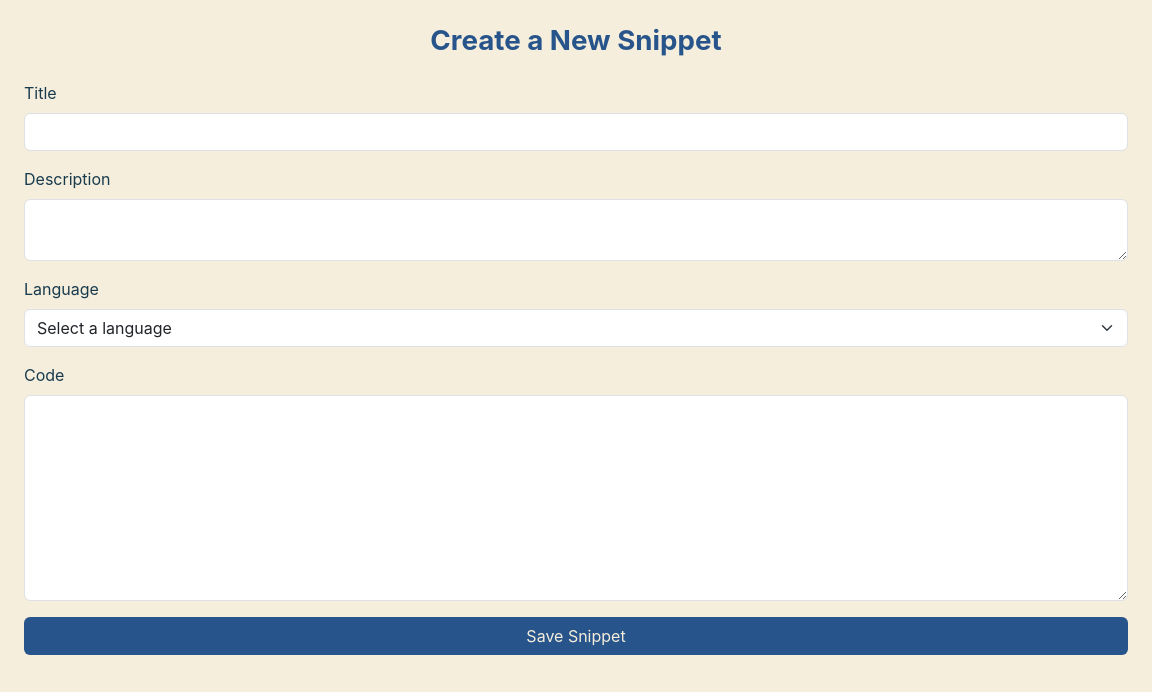
it: CreateSnippet component › submits the form and shows success message
Type "Test Title" into the field labelled "Title".
click(576, 132); type("Test Title")  # box top-left (24, 113), bottom-right (1128, 151)
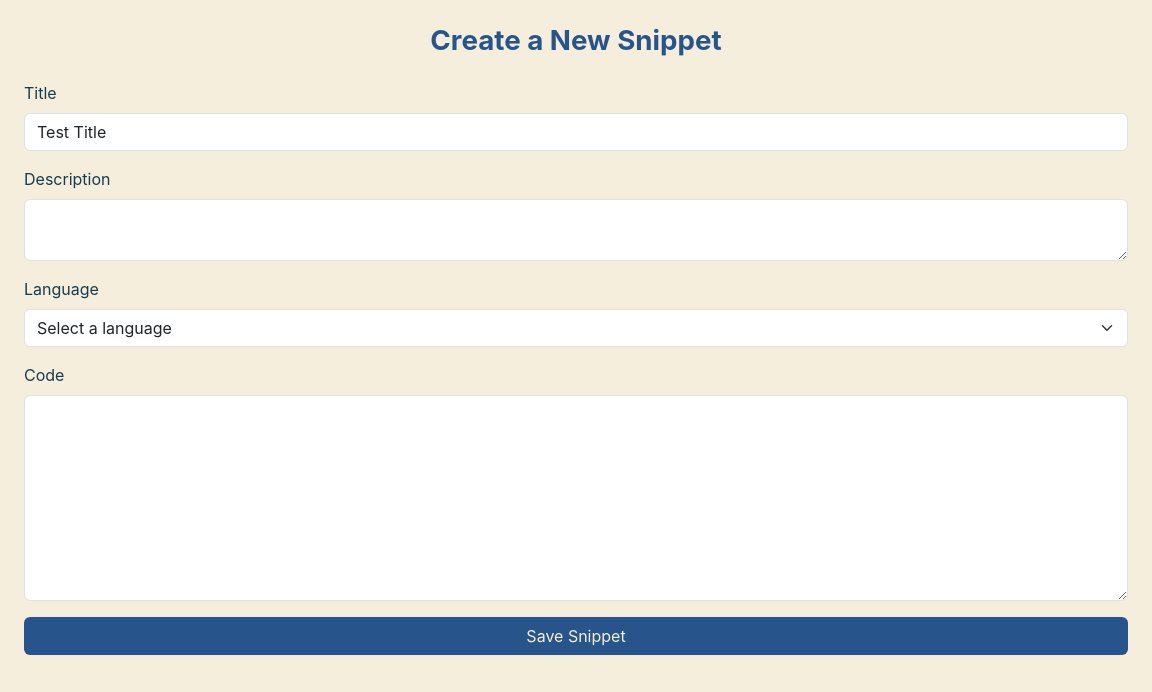
Type "Test Description" into the text box labelled "Description".
click(576, 230); type("Test Description")  # box top-left (24, 199), bottom-right (1128, 261)
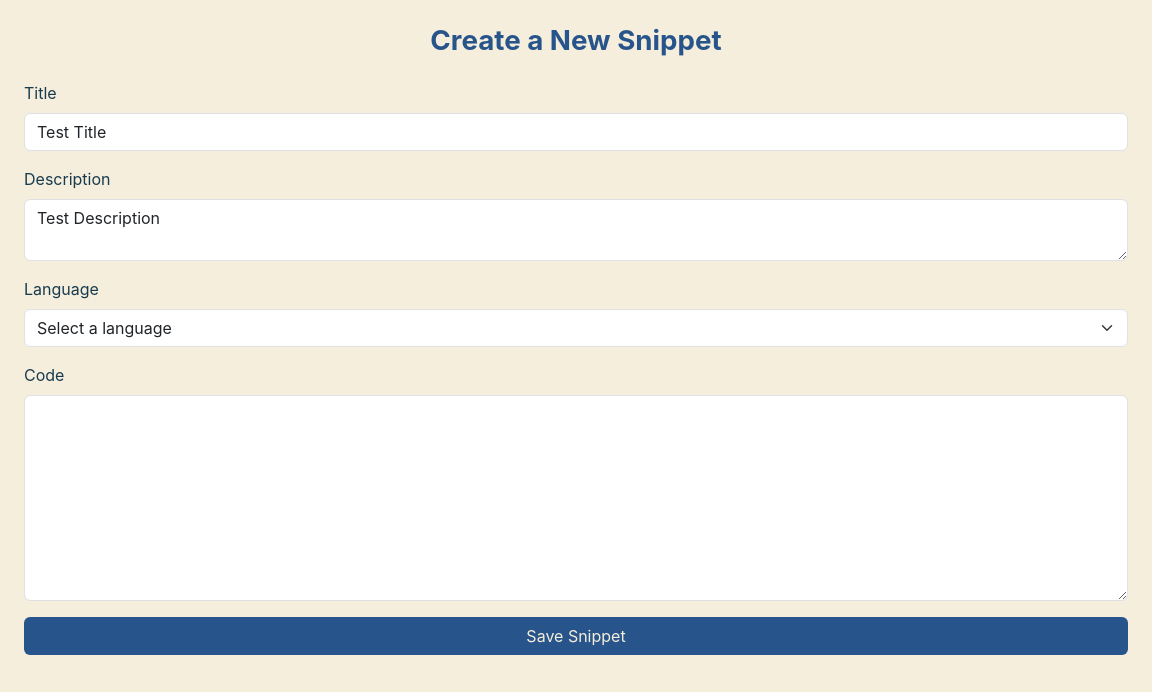
Select "JavaScript" in the dropdown labelled "Language" at [576, 328], box top-left (24, 309), bottom-right (1128, 347)
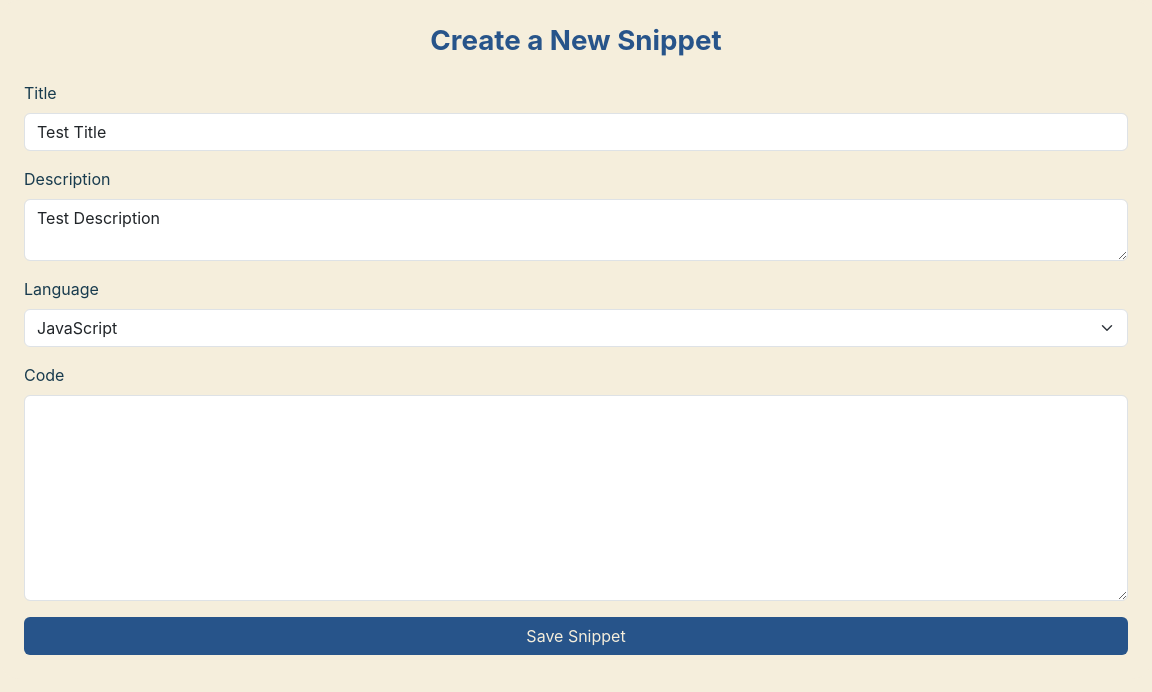
Type "console.log(\"hello\");" into the text box labelled "Code".
click(576, 498); type("console.log(\"hello\");")  # box top-left (24, 395), bottom-right (1128, 601)
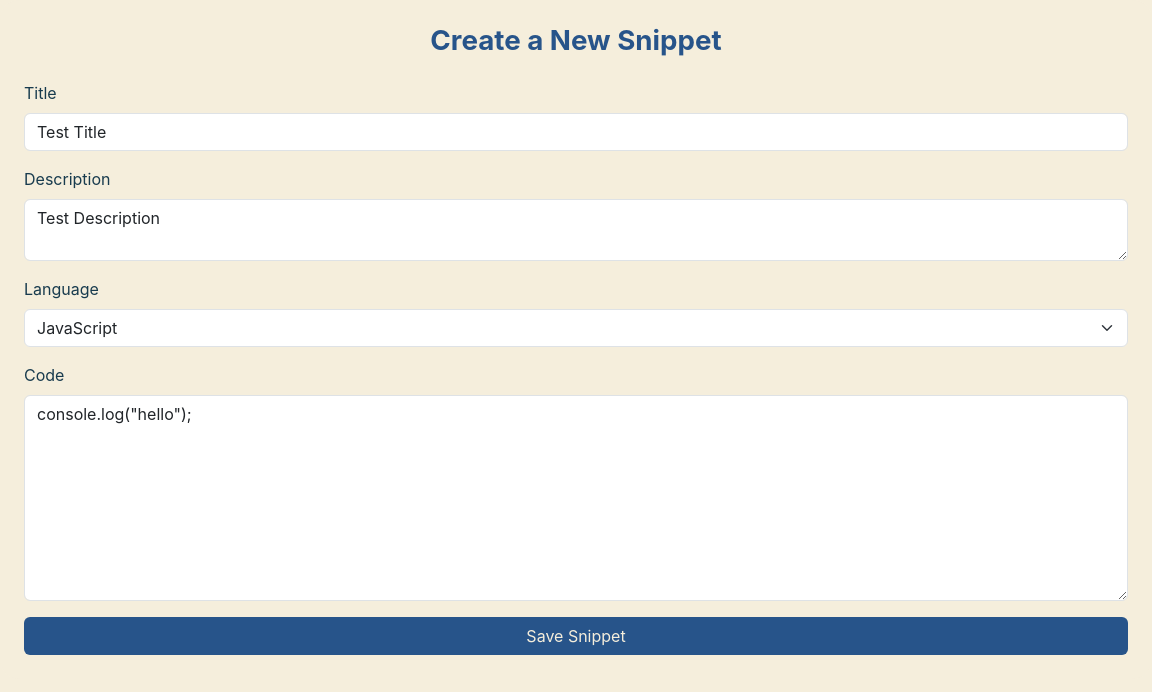
Click the button "Save Snippet".
click(576, 636)  # box top-left (24, 617), bottom-right (1128, 655)
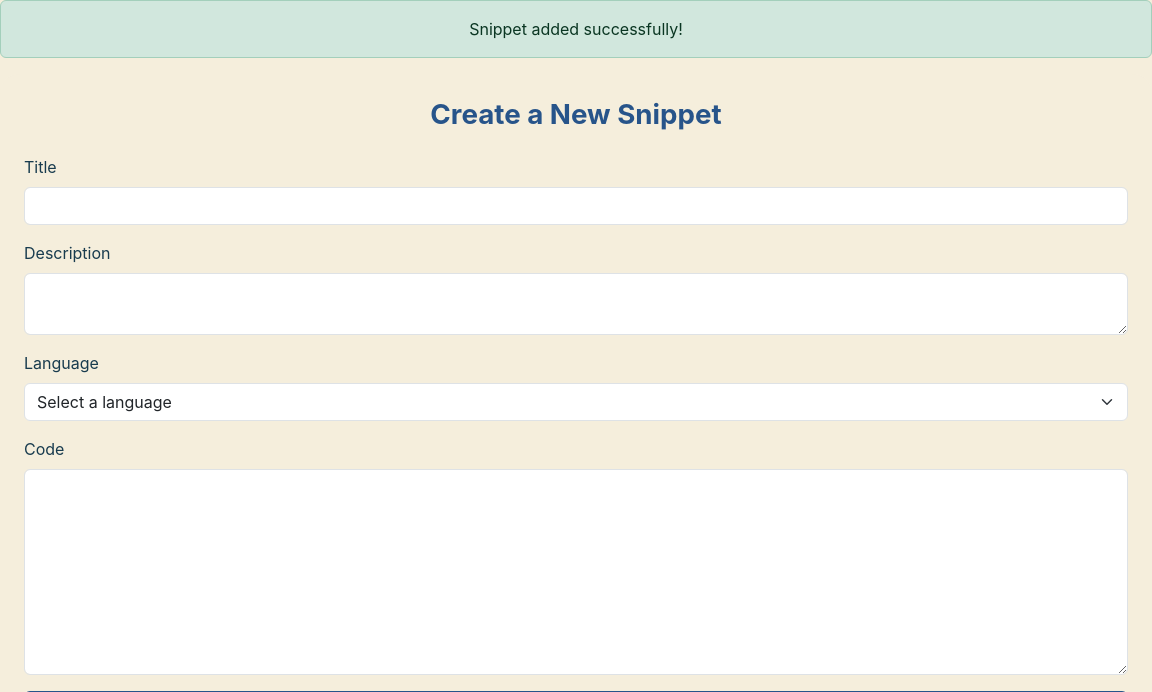
Now the text "Snippet added successfully!" is shown, box top-left (0, 0), bottom-right (1151, 58)
Now the field labelled "Title" is empty, box top-left (24, 187), bottom-right (1128, 225)
Now the text box labelled "Description" is empty, box top-left (24, 273), bottom-right (1128, 335)
